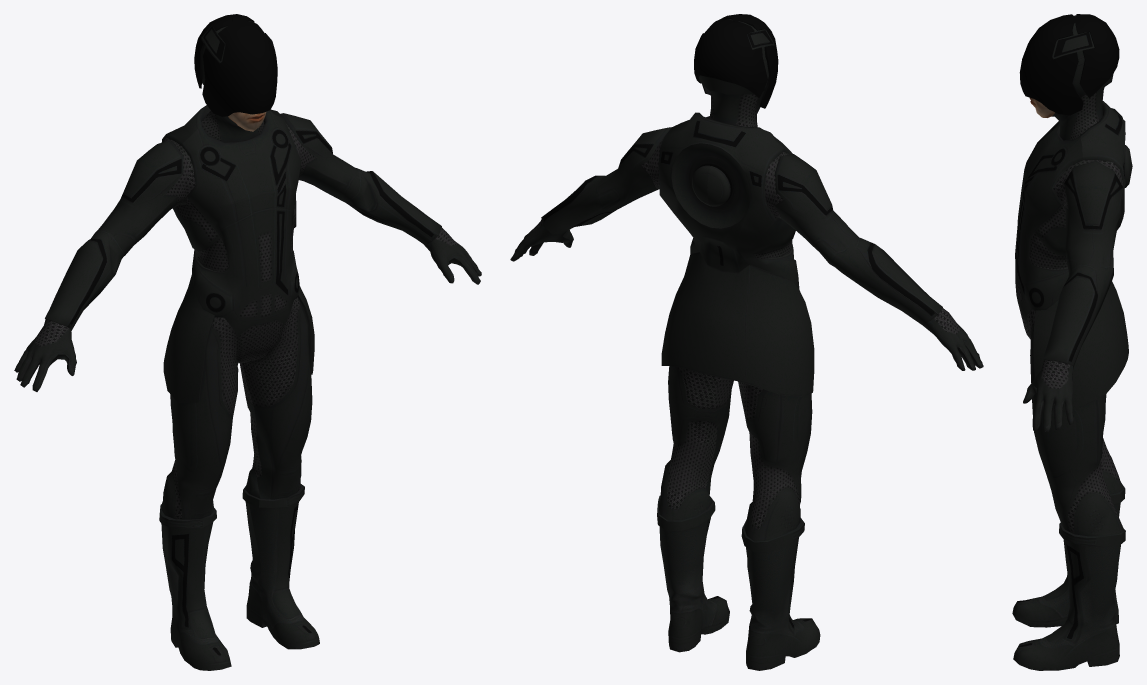
Rendered from Sentry Program.fbx.
The picture shows the model from 3 angles, left to right: view 1: azimuth 30°, elevation 25°; view 2: azimuth 150°, elevation 25°; view 3: azimuth 270°, elevation 25°; orthographic projection.
Visible parts, largest first — view 1: Sentry; view 2: Sentry; view 3: Sentry.
Boxes of the visible parts, x1=… form: Sentry: x1=14, y1=14, x2=481, y2=670; Sentry: x1=510, y1=14, x2=983, y2=670; Sentry: x1=1012, y1=14, x2=1132, y2=670.
Size of the model in its own units: 84.32 by 108 by 18.92.
